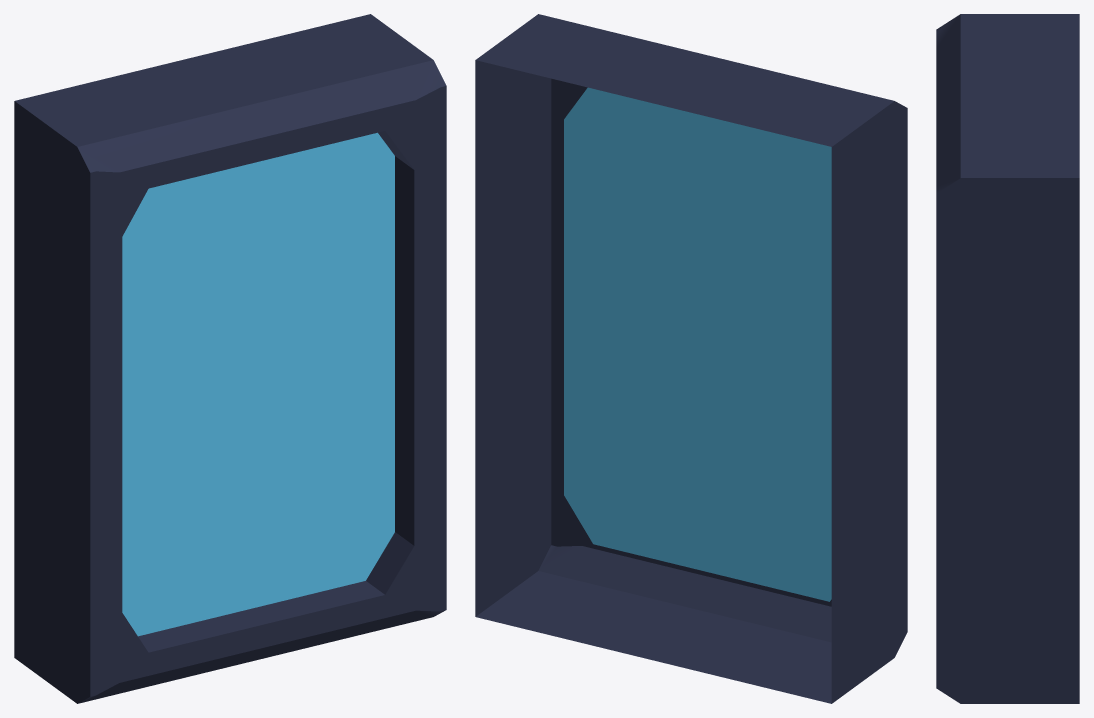
The model's file is Window_Small.fbx.
3 views of the same model, side by side, from view 1: azimuth 30°, elevation 25°; view 2: azimuth 150°, elevation 25°; view 3: azimuth 270°, elevation 25° (orthographic). The views are drawn at different scales.
Parts seen in each view (by area): view 1: Window_Small; view 2: Window_Small; view 3: Window_Small.
Part boxes in pixels (x1,y1,x2,y2): Window_Small: [14, 14, 446, 703]; Window_Small: [475, 14, 907, 703]; Window_Small: [936, 14, 1079, 703].
Bounding box in the file's own units: 242 × 362 × 89.19.
